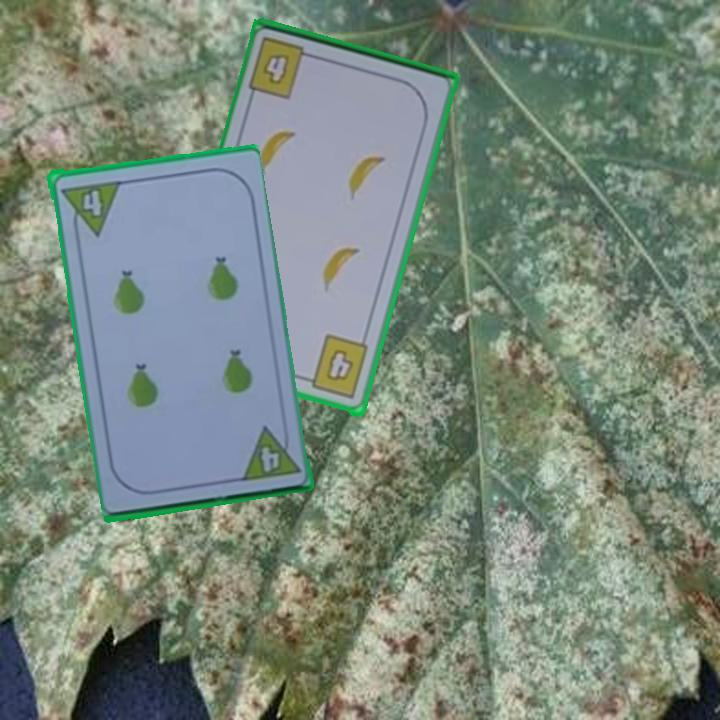4b: (298, 332, 372, 403), (259, 50, 293, 89)
4p: (237, 419, 303, 484), (56, 176, 122, 240)
